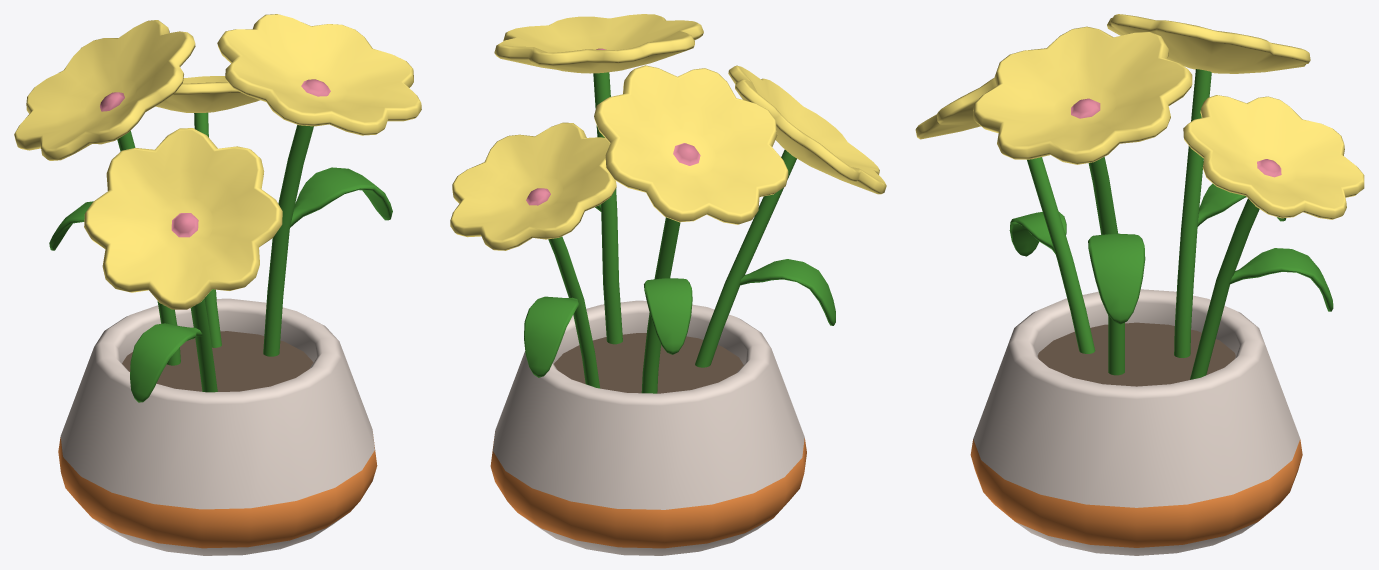
Rendered from Flower_2.glb.
The picture shows the model from 3 angles, left to right: view 1: azimuth 30°, elevation 25°; view 2: azimuth 150°, elevation 25°; view 3: azimuth 270°, elevation 25°; orthographic projection. The views are drawn at different scales.
Parts seen in each view (by area): view 1: Flower_2; view 2: Flower_2; view 3: Flower_2.
Boxes of the visible parts, box(x1,y1,x2,y2) form: Flower_2: box(14, 14, 421, 555); Flower_2: box(450, 14, 886, 555); Flower_2: box(915, 14, 1364, 555).
Bounding box in the file's own units: 0.9701 × 1.25 × 1.07.
Materials: 1 (1 with a texture image).
